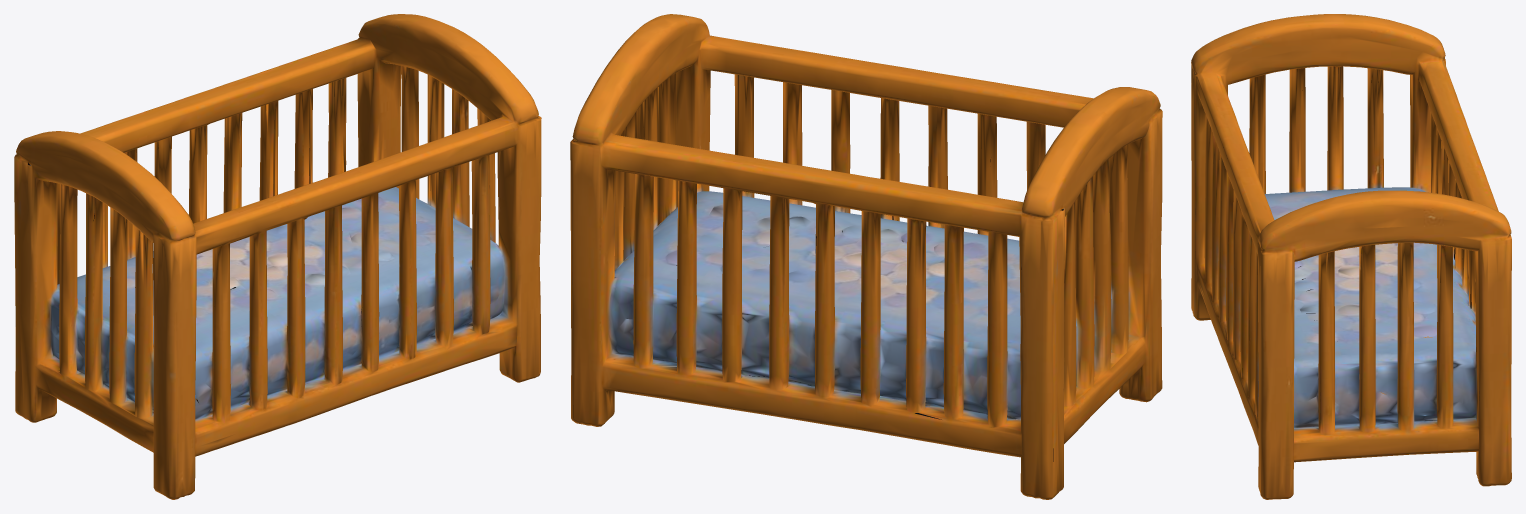
Rendered from crib.glb.
The picture shows the model from 3 angles, left to right: view 1: azimuth 30°, elevation 25°; view 2: azimuth 150°, elevation 25°; view 3: azimuth 270°, elevation 25°; orthographic projection. The views are drawn at different scales.
Parts seen in each view (by area): view 1: crib; view 2: crib; view 3: crib.
Part boxes in pixels (bbox=[...]): crib: bbox=[14, 14, 541, 499]; crib: bbox=[570, 14, 1162, 499]; crib: bbox=[1191, 14, 1511, 499].
Size of the model in its own units: 1.37 by 0.9198 by 0.9125.
Materials: 1 (1 with a texture image).
